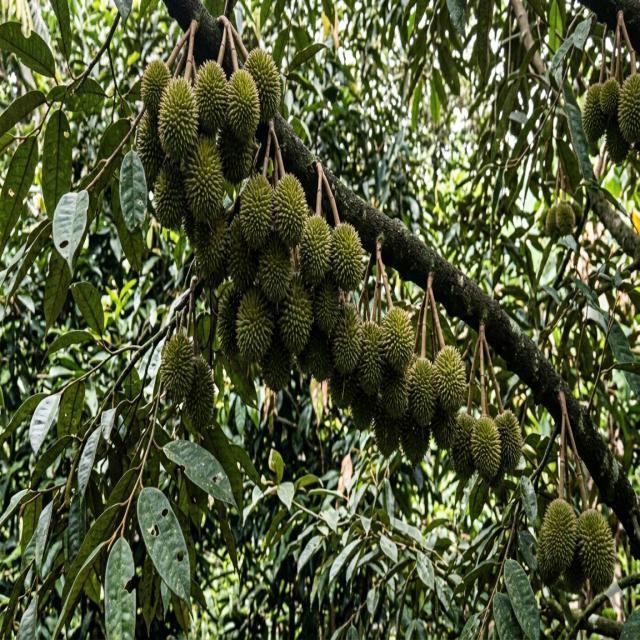immature: (537, 496, 579, 585), (184, 136, 226, 224), (574, 507, 616, 590), (158, 76, 199, 161), (235, 287, 275, 367), (238, 170, 276, 252), (244, 44, 282, 122), (193, 58, 230, 136), (271, 172, 309, 247), (278, 279, 315, 356), (226, 66, 262, 140), (193, 211, 231, 280), (329, 220, 365, 292), (160, 332, 197, 402), (225, 214, 258, 292), (298, 213, 334, 284), (381, 306, 418, 375), (355, 326, 390, 398), (331, 304, 365, 378), (431, 344, 467, 413), (217, 118, 253, 186), (153, 161, 188, 229), (256, 238, 292, 304), (185, 356, 217, 429), (406, 358, 439, 428), (470, 414, 503, 482), (378, 356, 411, 420), (450, 414, 481, 480), (136, 109, 164, 181), (494, 408, 525, 472), (217, 285, 244, 356), (259, 335, 292, 392), (311, 280, 342, 340), (140, 56, 171, 115), (582, 80, 610, 144), (617, 72, 640, 147), (398, 416, 430, 466), (302, 330, 332, 383), (372, 409, 405, 457), (349, 386, 379, 434), (597, 77, 622, 131), (605, 121, 631, 166), (328, 371, 353, 410), (554, 200, 576, 236), (545, 205, 560, 238), (569, 198, 584, 226)
